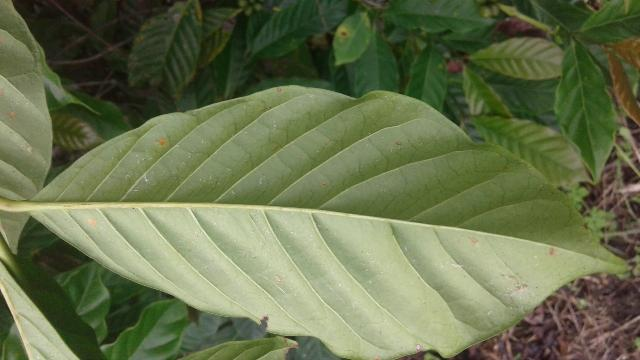rust_level_1: (28, 86, 632, 360)
